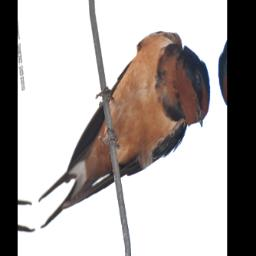Swallow: (24, 12, 219, 232)
